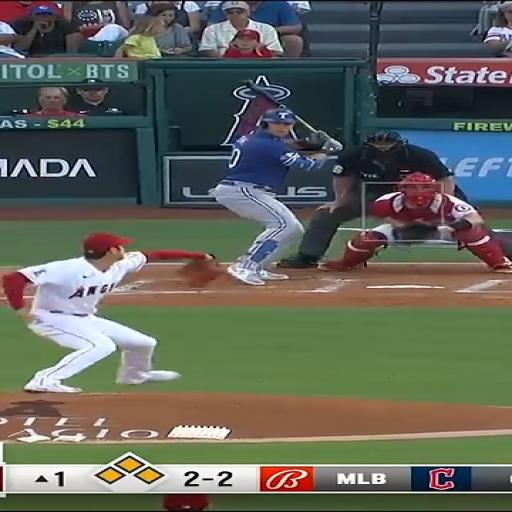bat: (242, 80, 289, 109)
